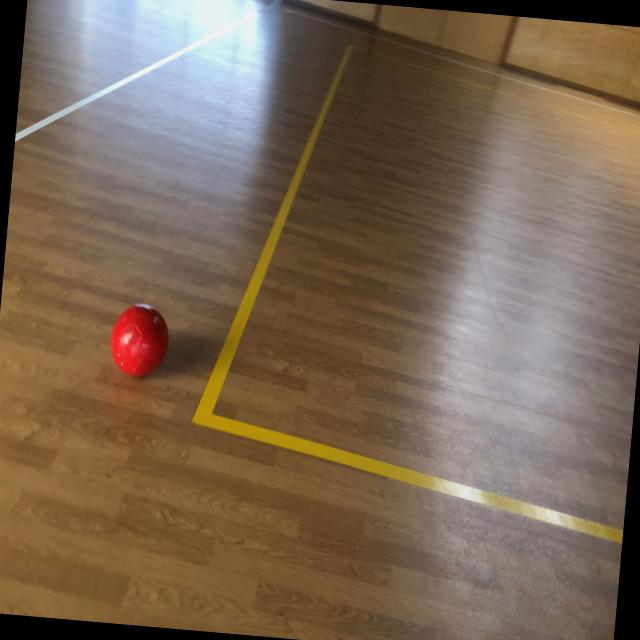red_ball: (106, 301, 172, 377)
